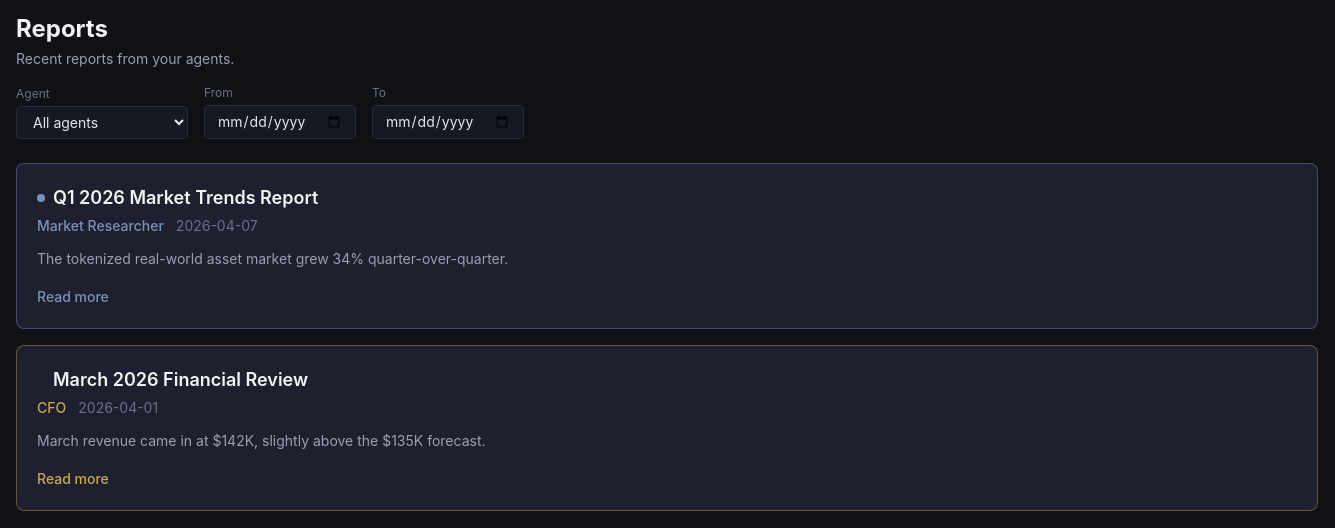
ReportsFeed › shows report detail when Read more is clicked
Expected: the heading "Q1 2026 Market Trends Report" is shown, [53,184,318,212]
Click the button with test id "read-more-market-trends-q1-2026.md": x=73, y=297 [37,287,109,307]
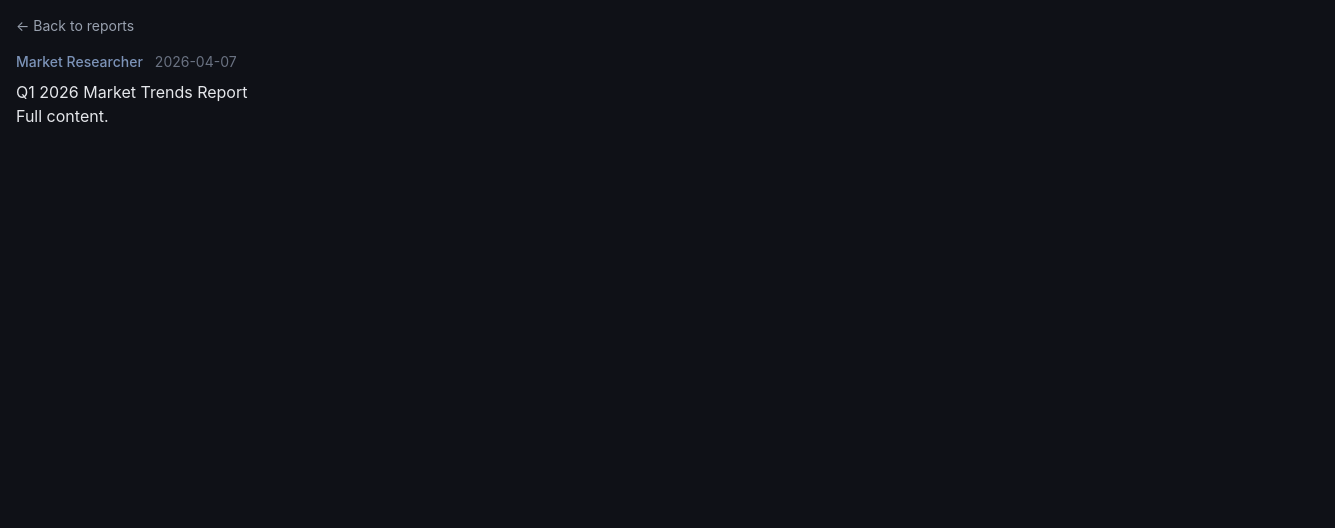
Result: the element with test id "report-detail" is shown at [16,16,248,126]
Result: the element with test id "report-filters" is gone
